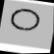no answer: (7, 5, 43, 34)
